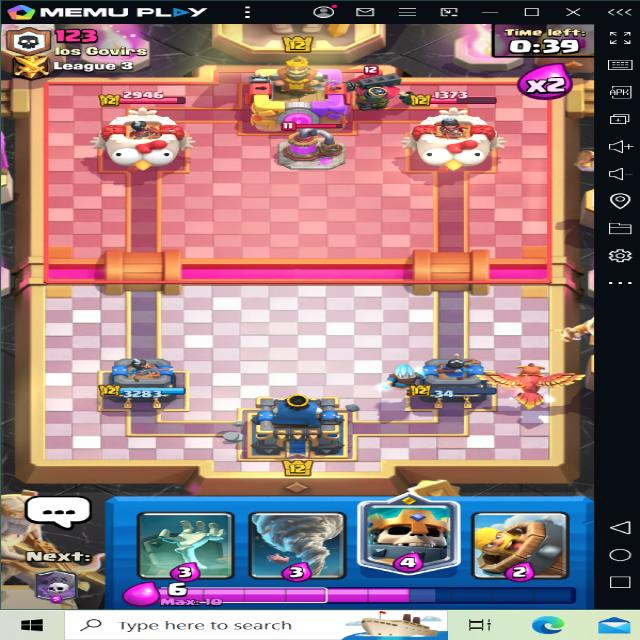elixir-collector: (250, 128, 372, 172)
skeleton-king: (340, 70, 414, 116)
